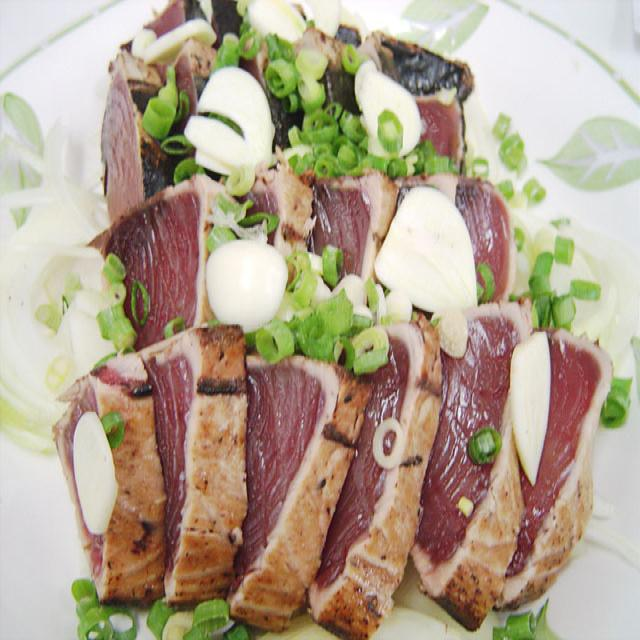熟制海鲜: (2, 0, 640, 640)
